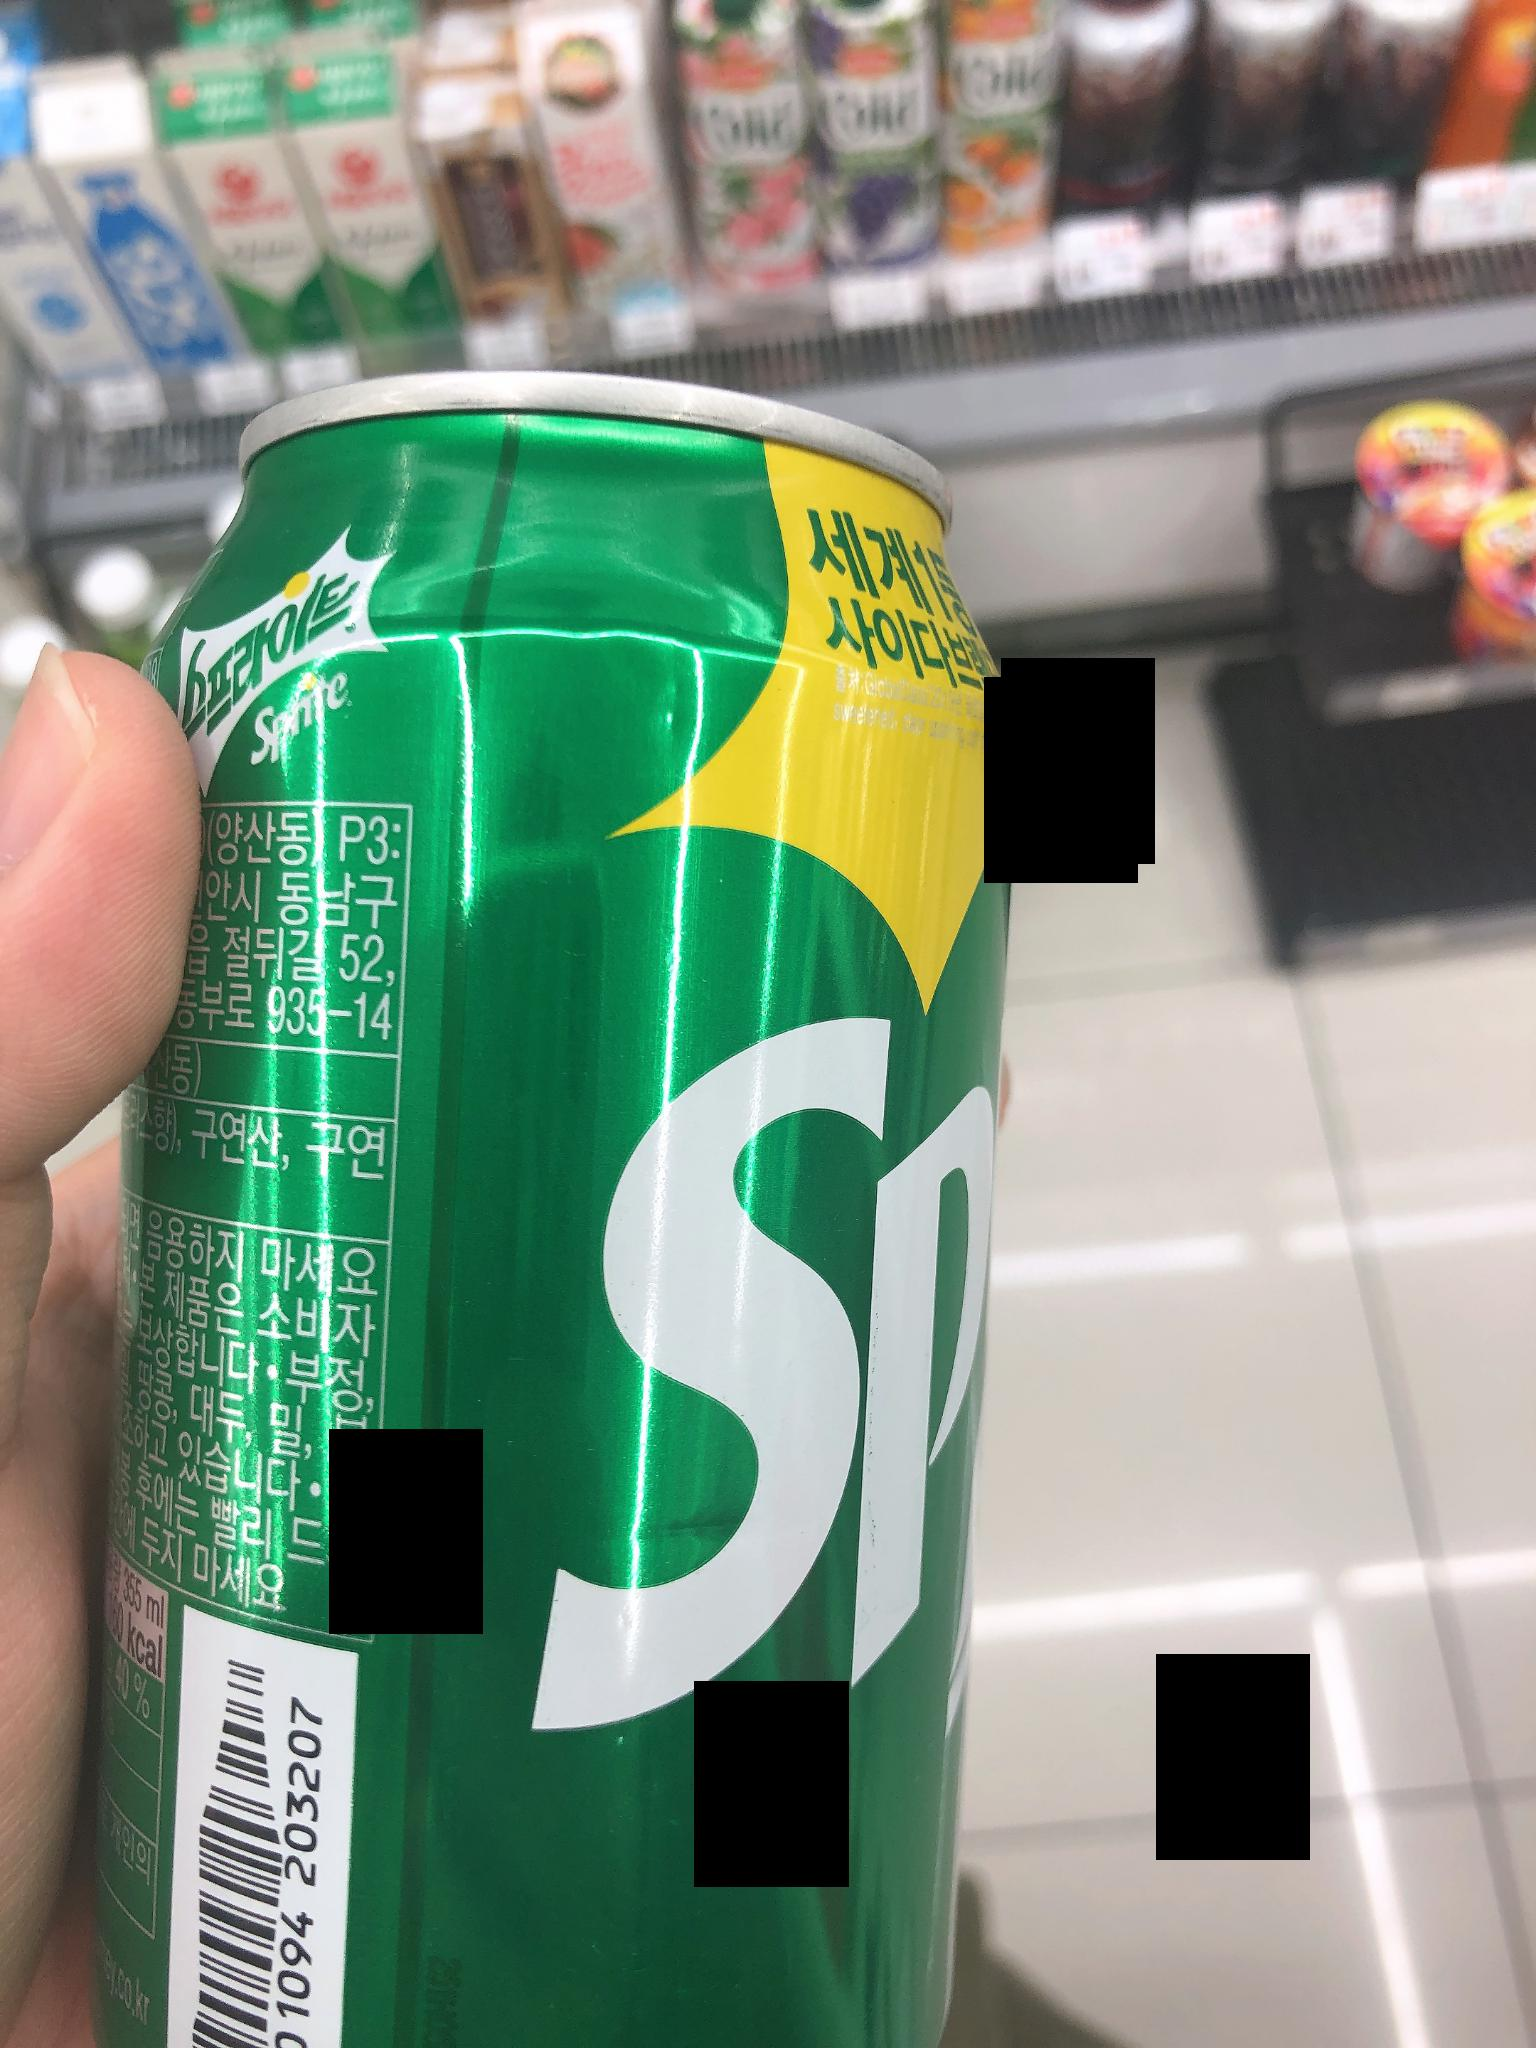sprite: (124, 348, 1070, 2048)
